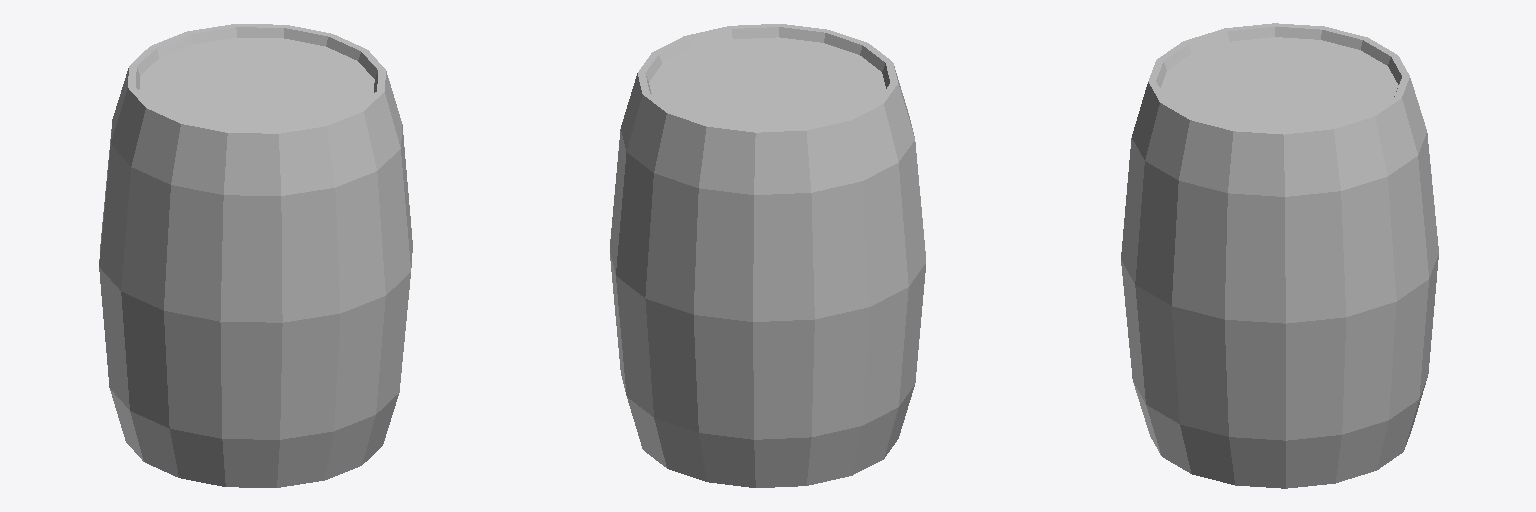
Rendered from Barrel_LOD01.obj.
3 renders of one model, left to right at view 1: azimuth 30°, elevation 25°; view 2: azimuth 150°, elevation 25°; view 3: azimuth 270°, elevation 25°, orthographic.
Parts seen in each view (by area): view 1: Barrel_LOD01; view 2: Barrel_LOD01; view 3: Barrel_LOD01.
Part boxes in pixels (left/top/right/bottom): Barrel_LOD01: left=99, top=24, right=412, bottom=487; Barrel_LOD01: left=610, top=24, right=925, bottom=487; Barrel_LOD01: left=1121, top=23, right=1438, bottom=488.
Bounding box in the file's own units: 0.8855 × 1.09 × 0.8855.